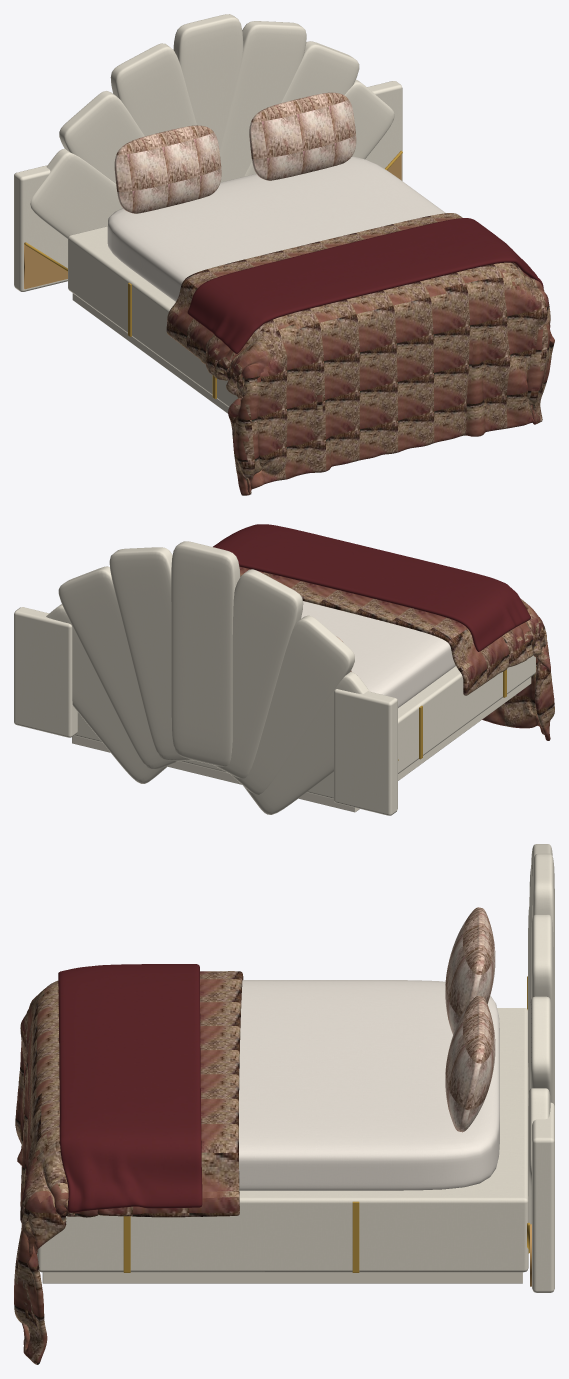
File: mustang-bed-set-with-wardrobe--bed.glb
3 views of the same model, one above another, from view 1: azimuth 30°, elevation 25°; view 2: azimuth 150°, elevation 25°; view 3: azimuth 270°, elevation 25° (orthographic). The views are drawn at different scales.
Parts seen in each view (by area): view 1: duvet, mattress, throw, base, pillow0, pillow1, fan1, fan0, fan-1, fan-3, fan-2, wing-1 (+5 smaller); view 2: throw, fan0, duvet, fan-1, fan1, fan-2, fan2, wing-1, mattress, wing1, base, fan-3 (+2 smaller); view 3: mattress, base, throw, duvet, plinth, pillow1, pillow0, wing1, fan2, fan1, fan0, fan3.
Boxes of the visible parts, <box> form: duvet: <box>166,213,554,495</box>; mattress: <box>107,156,445,301</box>; throw: <box>187,218,543,353</box>; base: <box>68,226,237,407</box>; pillow0: <box>114,125,221,213</box>; pillow1: <box>249,92,356,180</box>; fan1: <box>219,21,306,182</box>; fan0: <box>173,14,243,150</box>; fan-1: <box>110,43,196,136</box>; fan-3: <box>30,149,122,238</box>; fan-2: <box>59,91,144,183</box>; wing-1: <box>14,165,67,291</box>; throw: <box>213,524,530,651</box>; fan0: <box>171,541,240,766</box>; duvet: <box>239,566,554,740</box>; fan-1: <box>214,569,303,778</box>; fan1: <box>109,547,192,761</box>; fan-2: <box>230,615,354,794</box>; fan2: <box>58,566,179,768</box>; wing-1: <box>334,689,397,815</box>; mattress: <box>301,601,455,707</box>; wing1: <box>14,607,77,737</box>; base: <box>74,655,535,798</box>; fan-3: <box>243,672,369,814</box>; mattress: <box>239,980,499,1190</box>; base: <box>37,1008,528,1272</box>; throw: <box>58,964,202,1212</box>; duvet: <box>14,971,243,1364</box>; plinth: <box>42,1272,522,1283</box>; pillow1: <box>445,996,495,1132</box>; pillow0: <box>445,907,495,1034</box>; wing1: <box>532,1102,554,1292</box>; fan2: <box>529,996,552,1102</box>; fan1: <box>530,914,553,1103</box>; fan0: <box>532,853,554,1105</box>; fan3: <box>528,1088,550,1224</box>.
Bounding box in the file's own units: 2.6 × 1.94 × 2.36.
8 materials, 5 textured.
